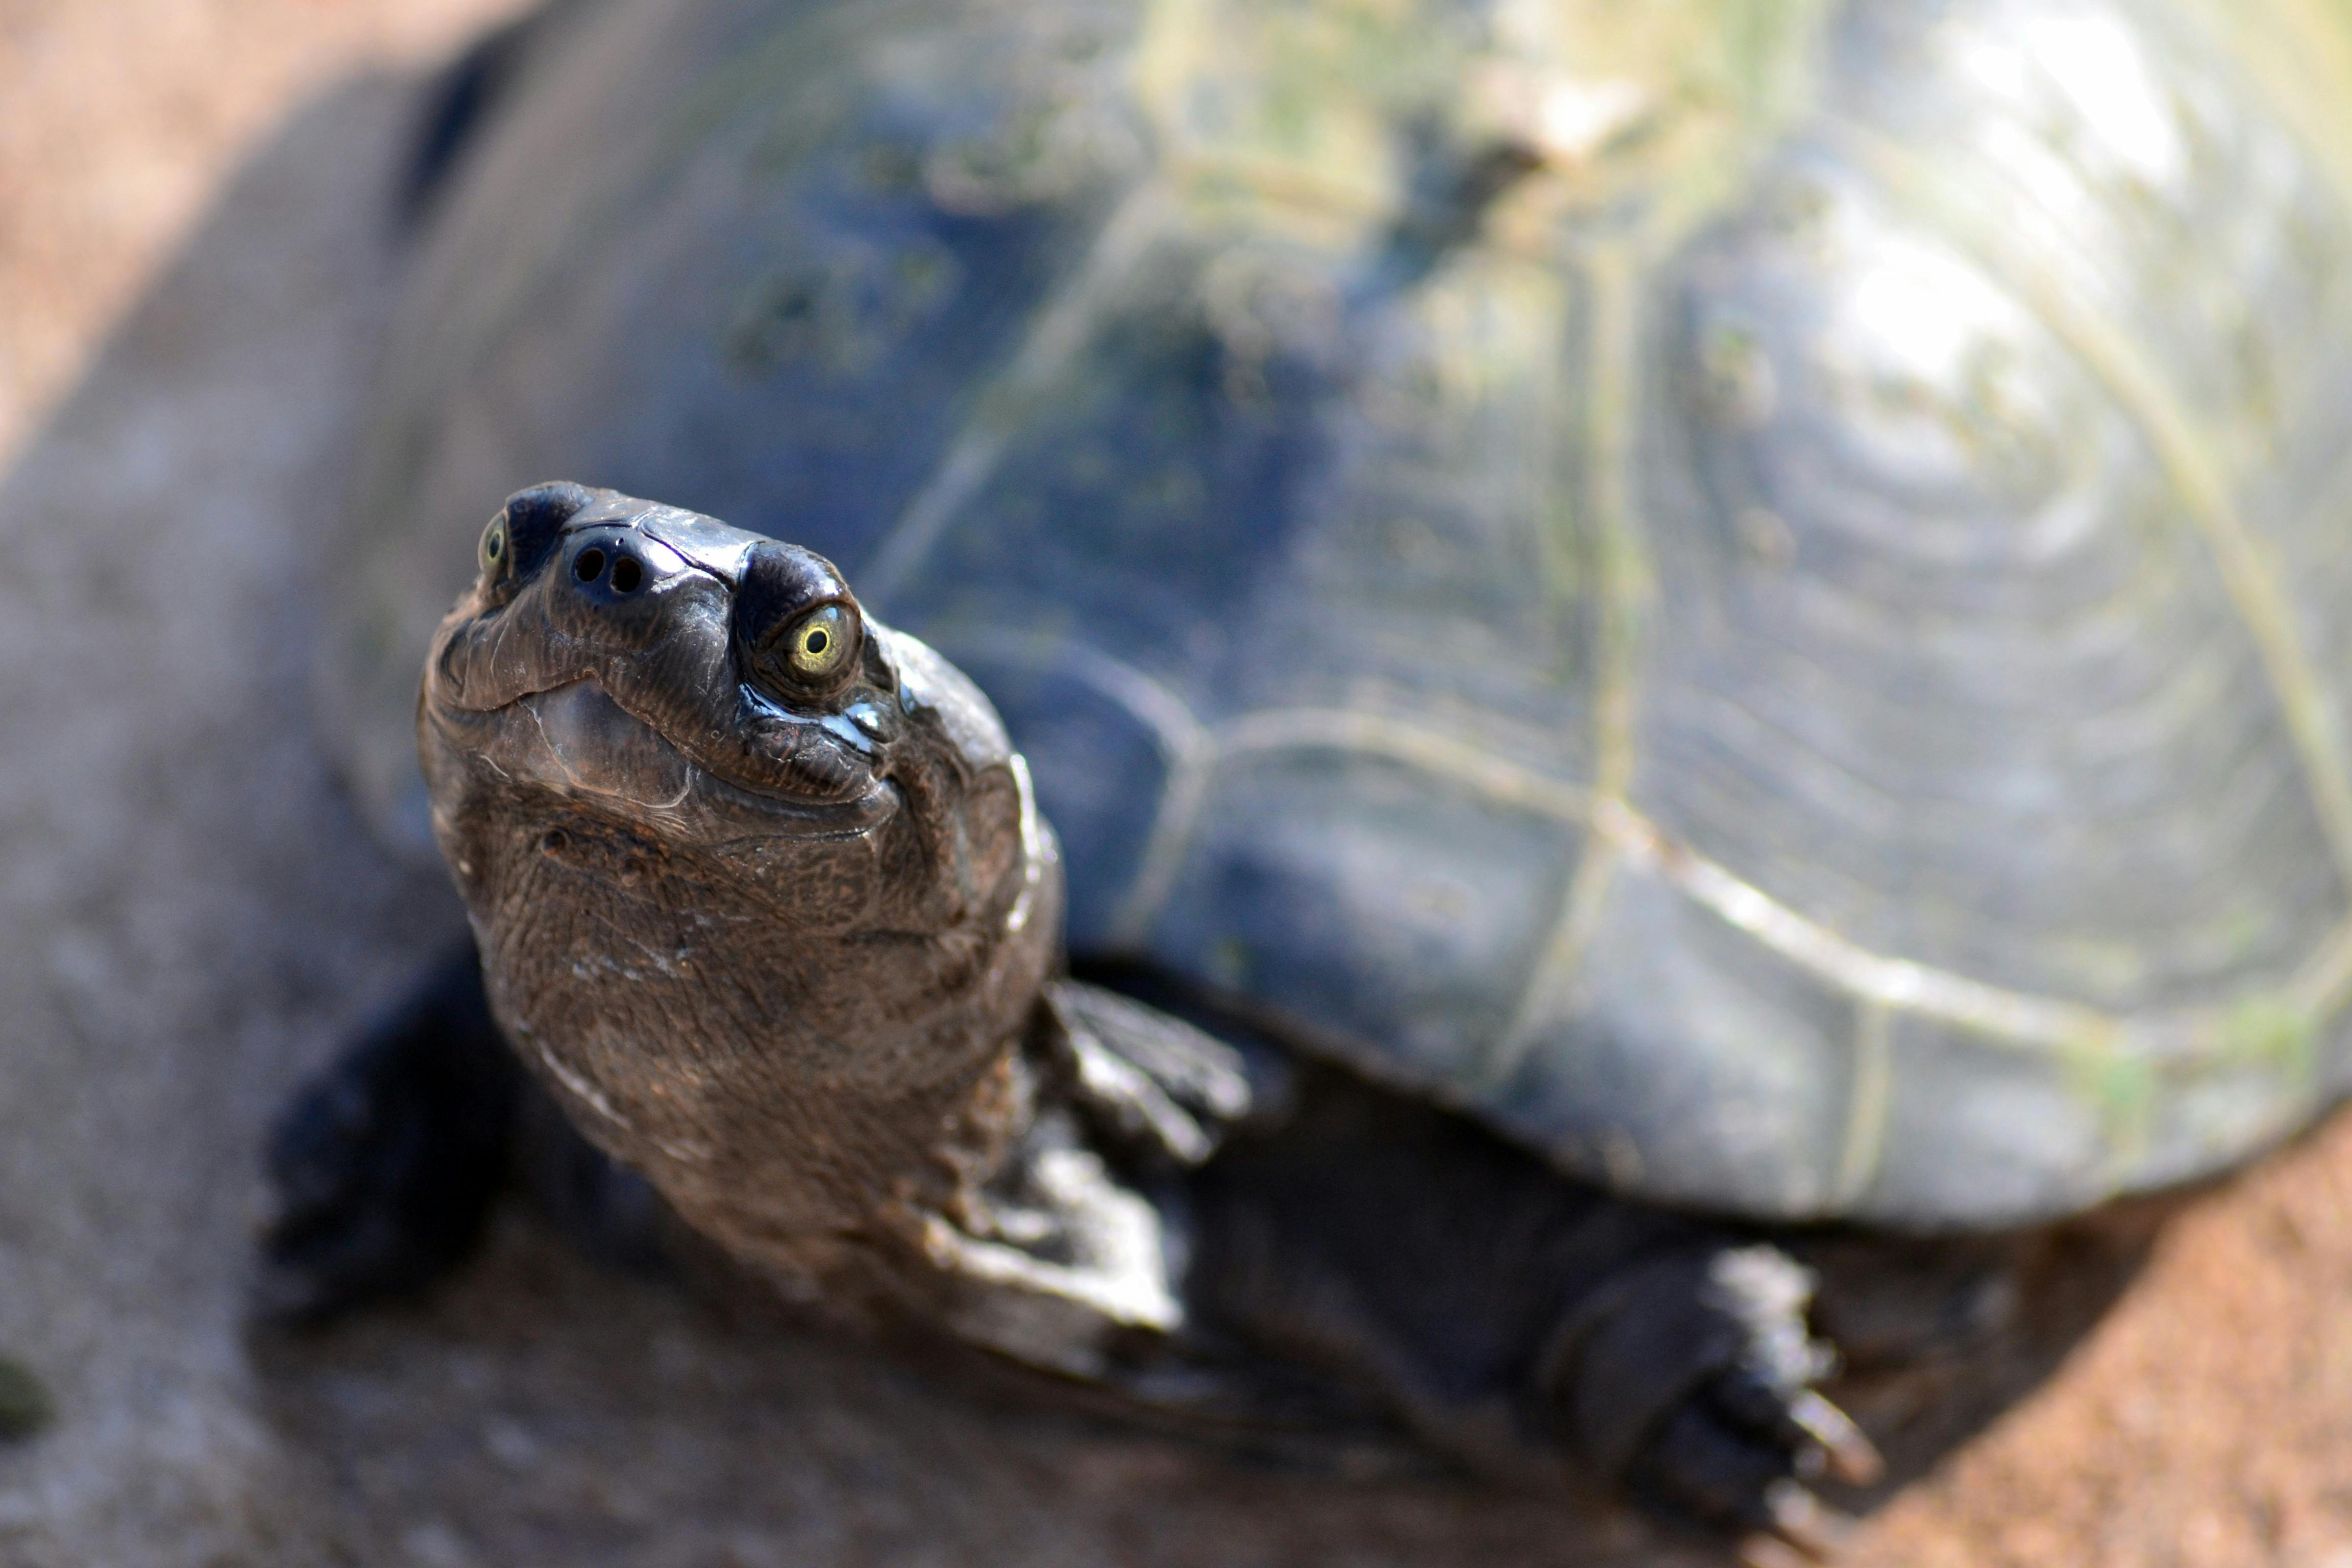turtle: (236, 80, 2347, 1568)
